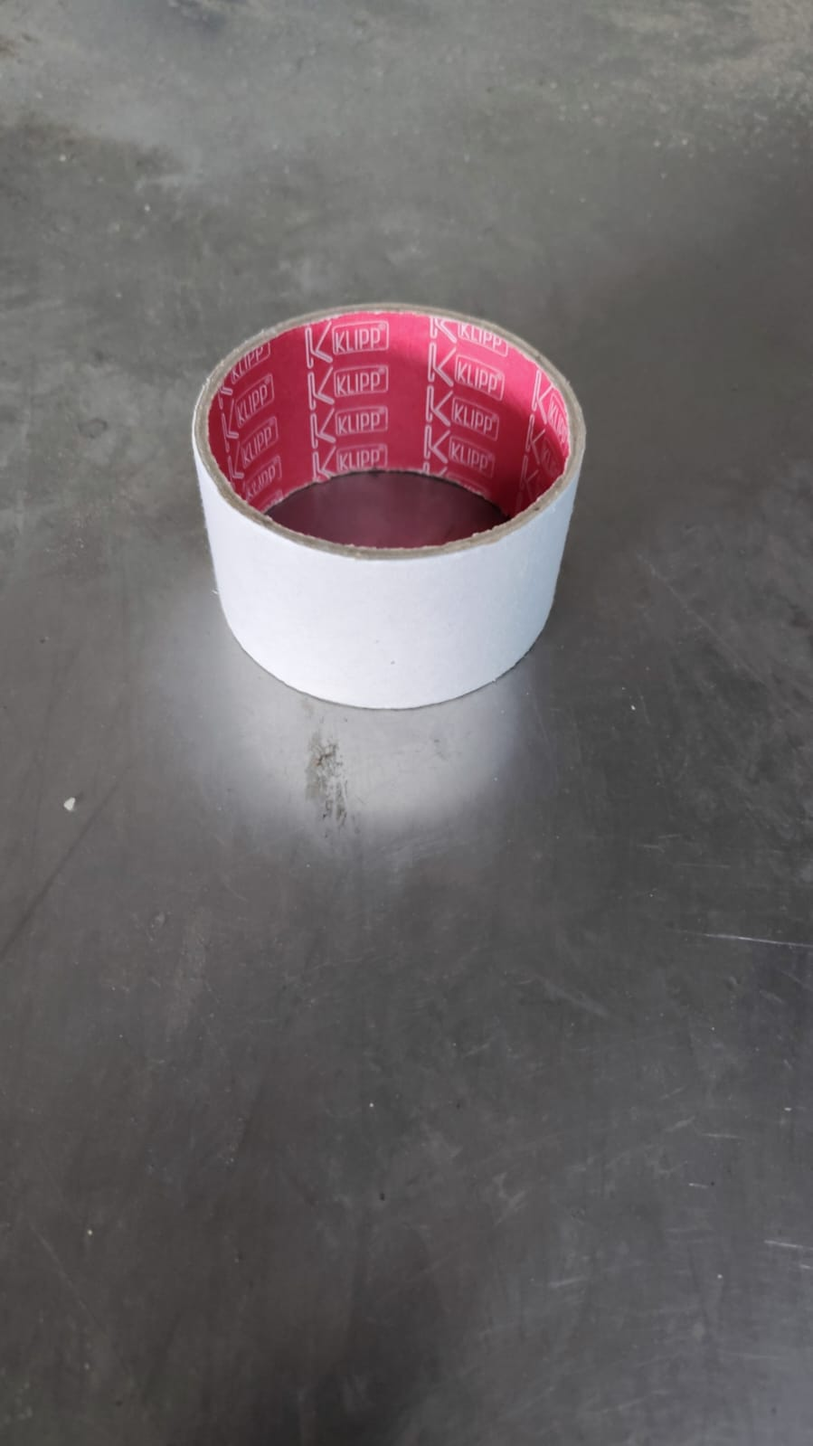Carton: (190, 300, 589, 708)
